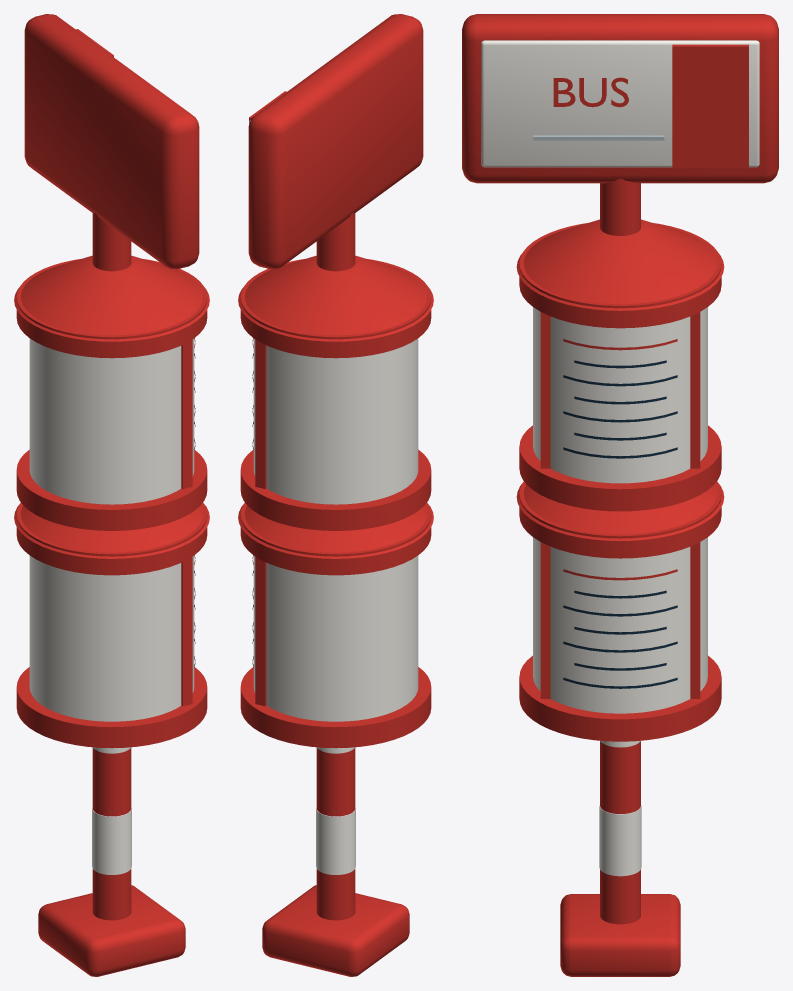
The model's file is bus-stop.glb.
3 renders of one model, left to right at view 1: azimuth 30°, elevation 25°; view 2: azimuth 150°, elevation 25°; view 3: azimuth 270°, elevation 25°, orthographic. The views are drawn at different scales.
Parts seen in each view (by area): view 1: bus-stop; view 2: bus-stop; view 3: bus-stop.
Part boxes in pixels (box(x1,y1,x2,y2)): bus-stop: box(14, 14, 209, 976); bus-stop: box(238, 14, 433, 976); bus-stop: box(462, 14, 778, 976).
Bounding box in the file's own units: 0.76 × 3.79 × 1.16.
